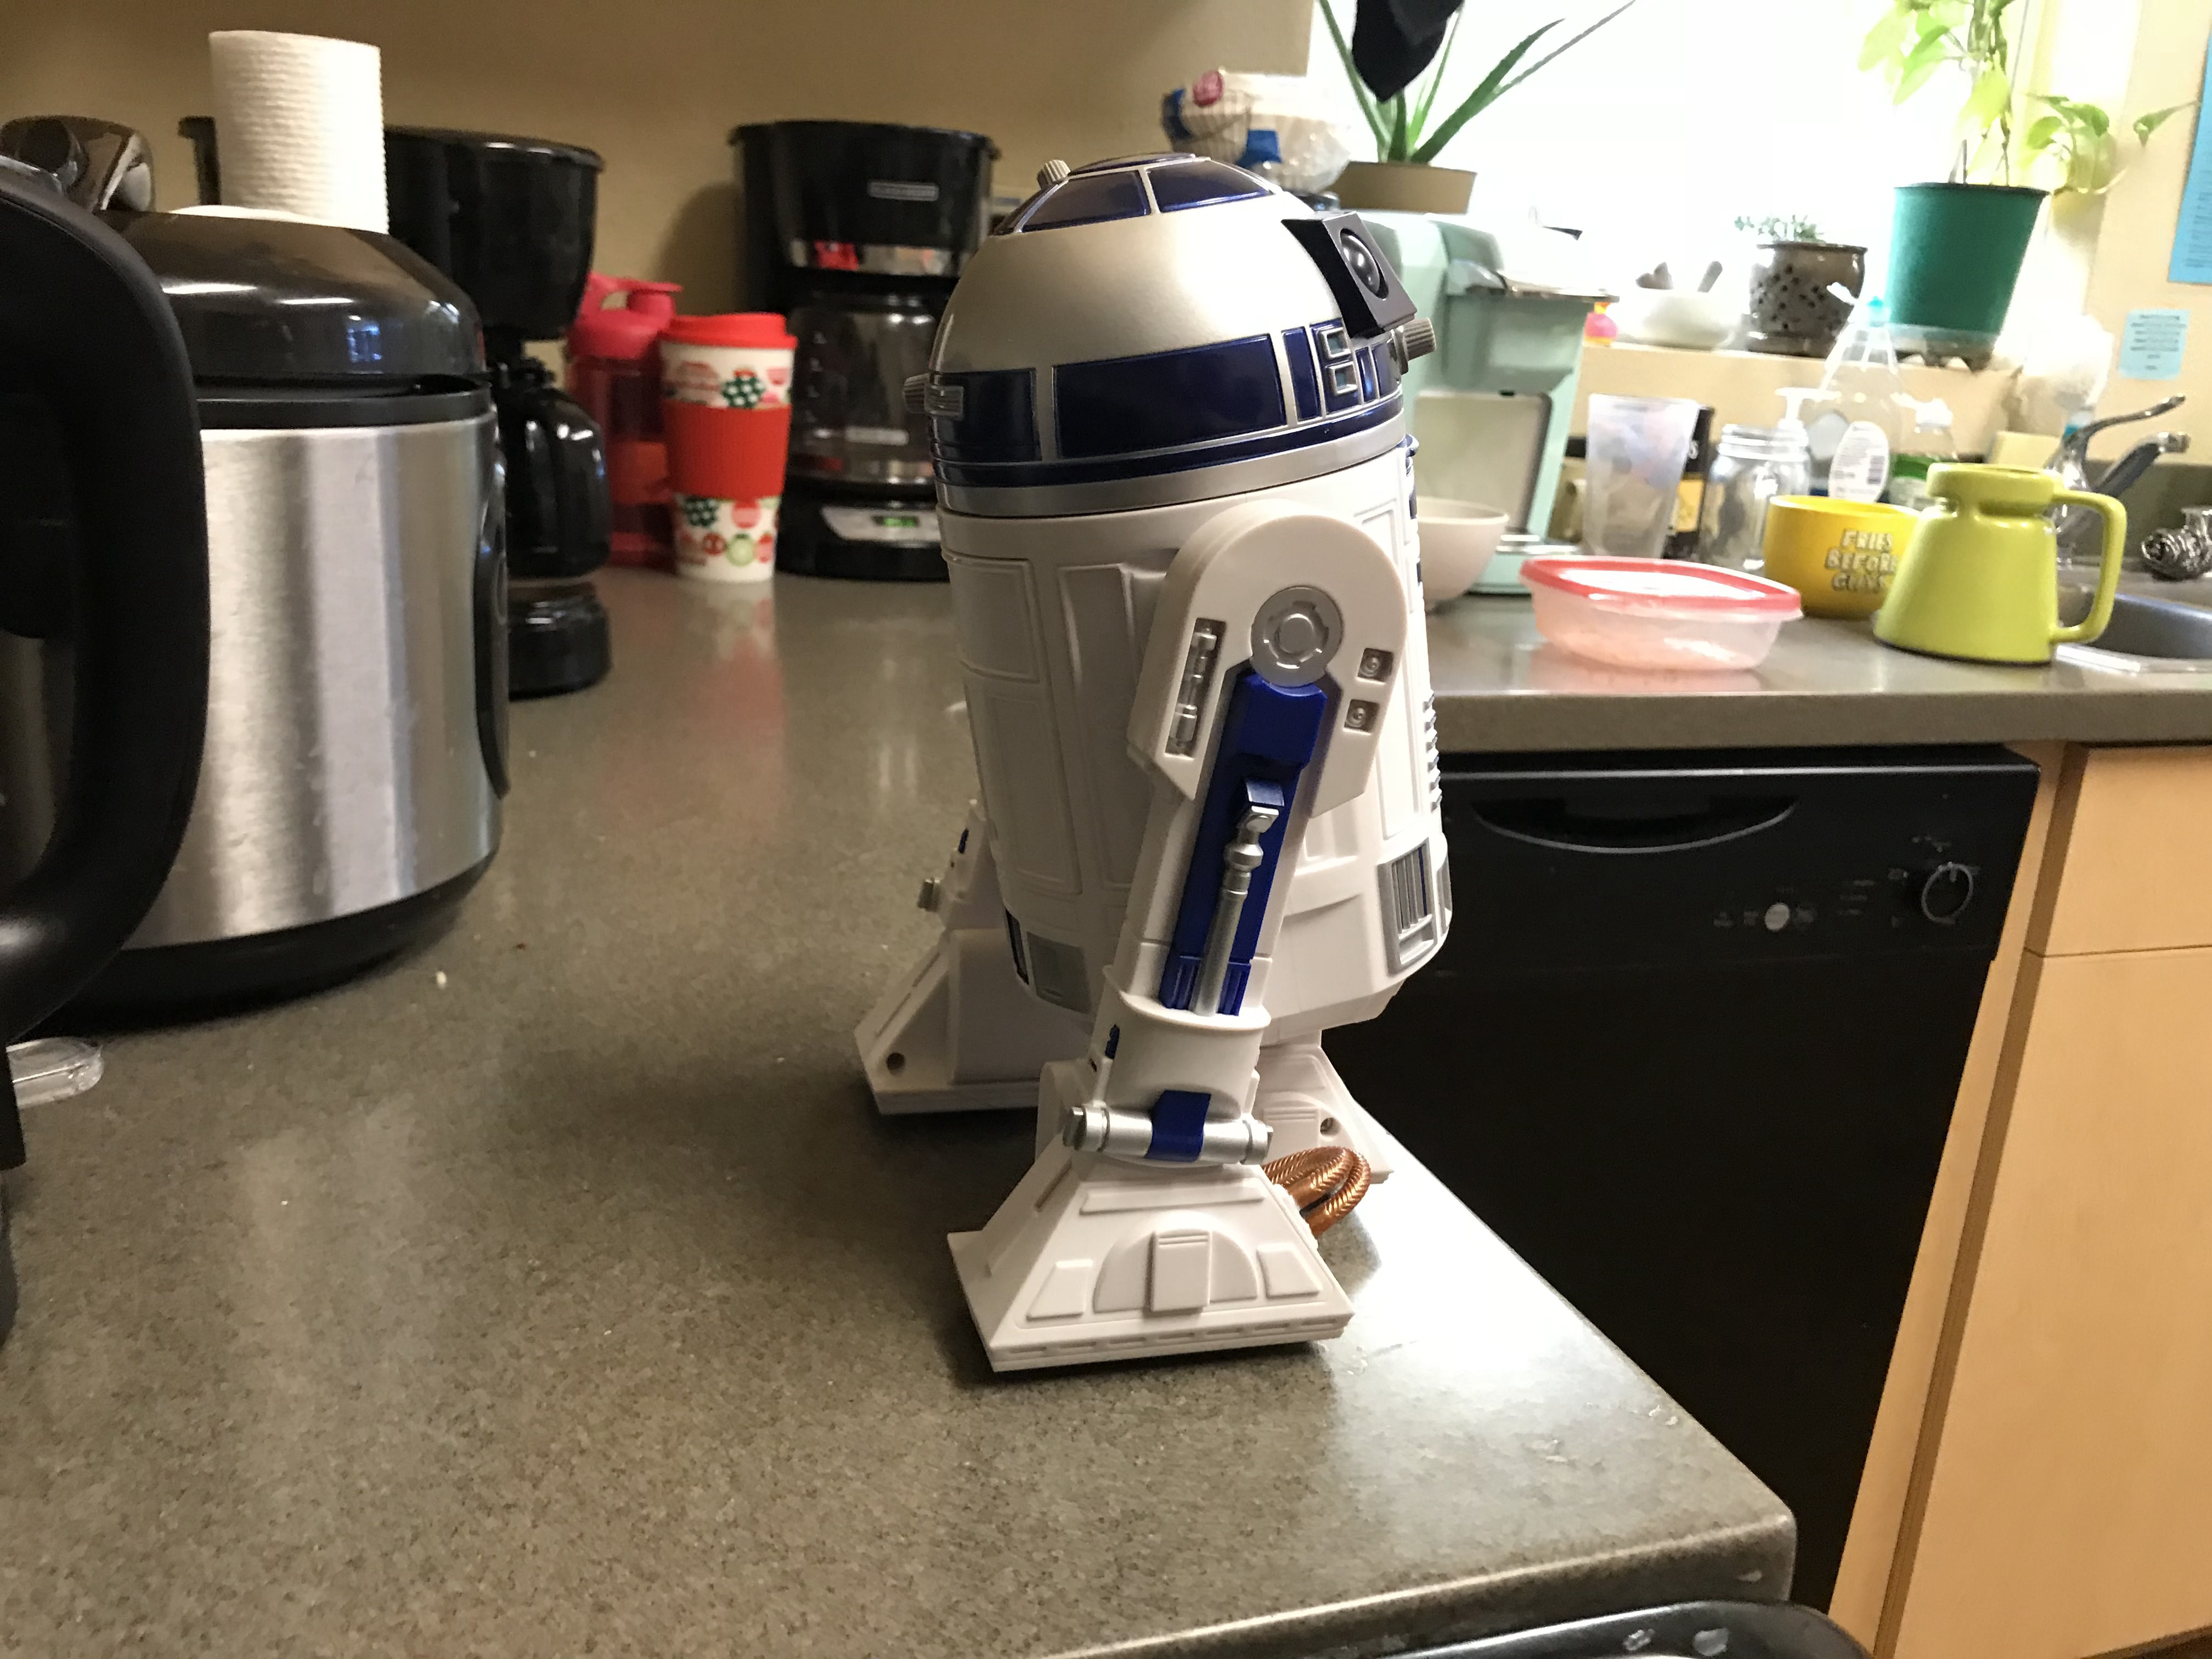r2d2: (853, 148, 1456, 1371)
